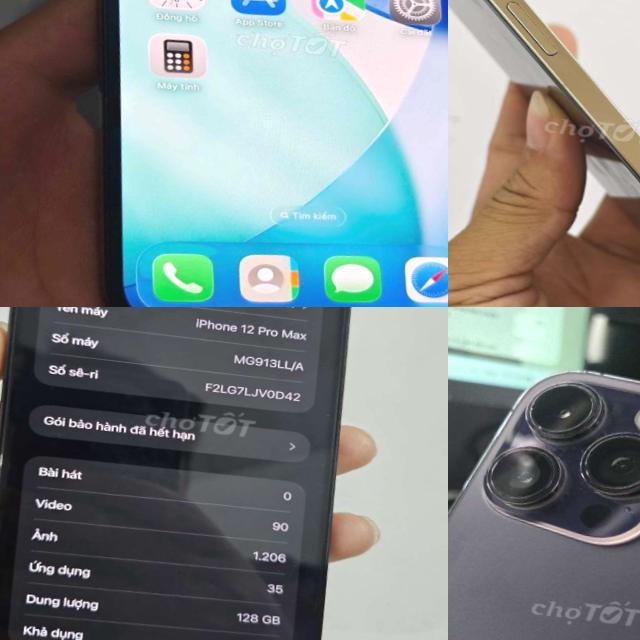gen_12_13: (23, 0, 448, 307), (0, 307, 389, 640), (448, 0, 640, 307)
gen_14: (448, 330, 640, 640)
